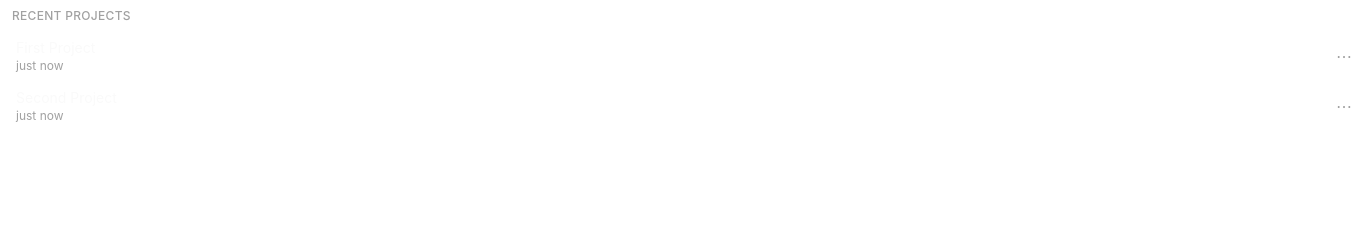
Test case: inline rename › Escape abandons the edit without writing
The width and height of the screenshot is (1366, 244).
Click the 1st button with test id "project-menu" at (1344, 56), box [1330,40,1358,72]
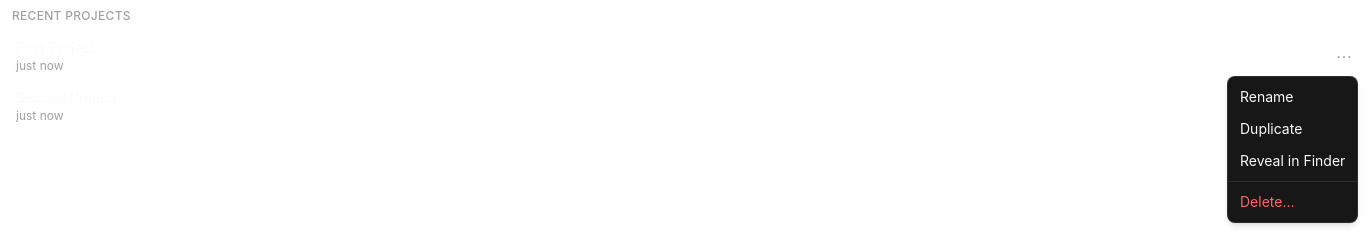
Click the menu item with test id "project-rename" at (1267, 96), box [1240,88,1294,105]
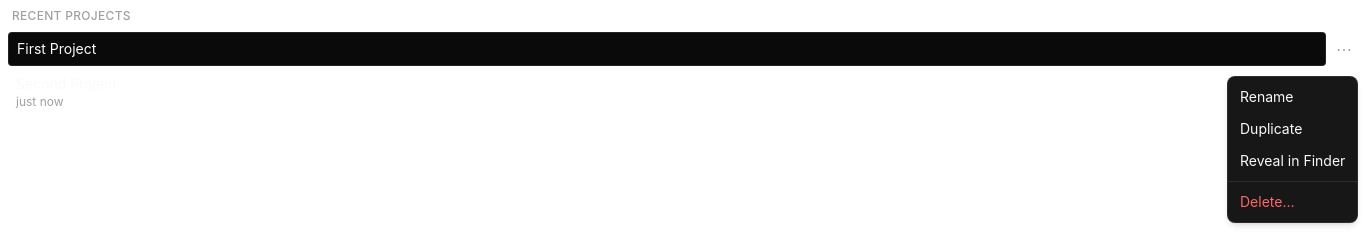
Replace the text in the field with test id "project-rename-input" with "Nope" at (667, 49), box [8,32,1326,66]
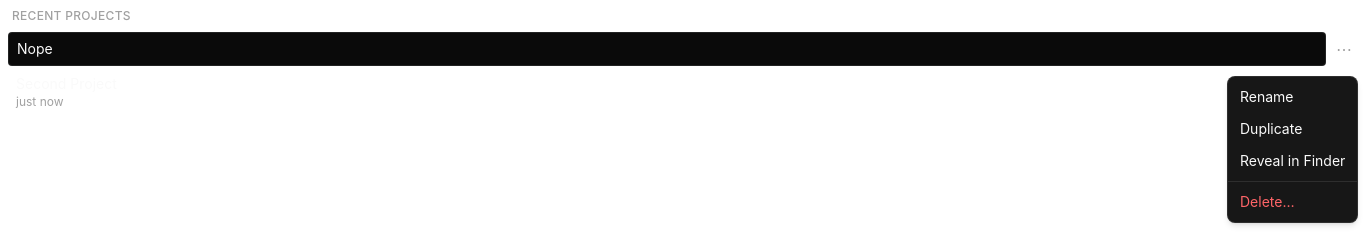
Press Escape in the field with test id "project-rename-input", box [8,32,1326,66]
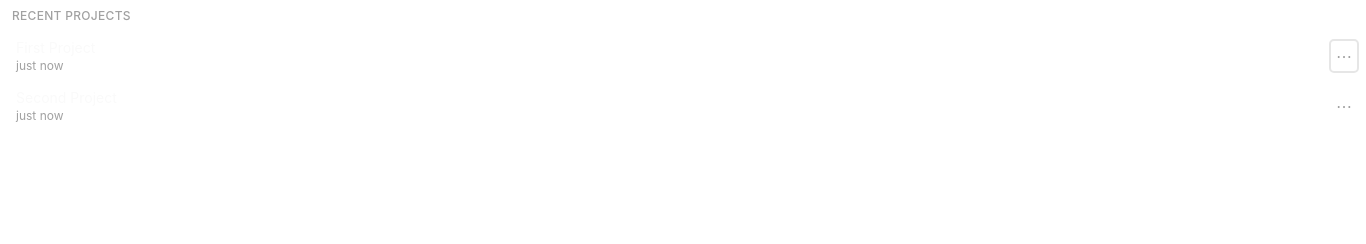
Check: the field with test id "project-rename-input" is gone
